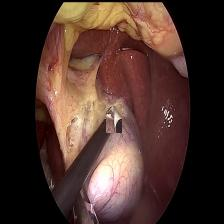Grasper: (70, 187, 101, 224)
Hook: (105, 98, 120, 132)
